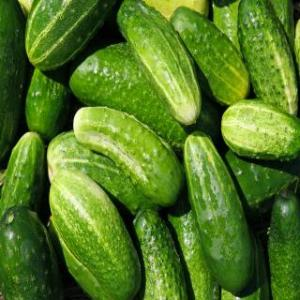cucumber: (44, 164, 142, 300), (180, 127, 256, 292), (114, 0, 204, 126), (72, 106, 184, 206), (169, 5, 249, 109), (21, 0, 122, 74), (236, 0, 300, 116), (0, 204, 66, 300), (218, 92, 300, 164), (132, 202, 186, 300), (0, 128, 44, 216), (266, 184, 298, 300)
